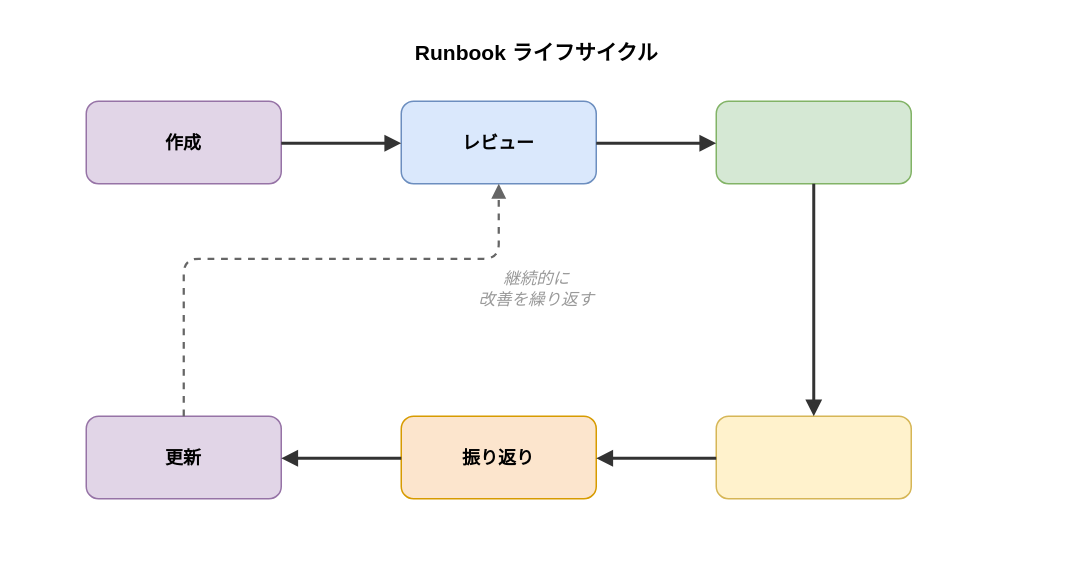
The diagram is 1071 pixels wide and 561 high, and some of its shapes have lost their labels. The shapes that lost their labels are listed below. From the top down, each one's box as (x1, y1, x2, y2) in pixels, then its label:
(715, 100, 911, 184): 公開
(715, 415, 911, 499): 実行
